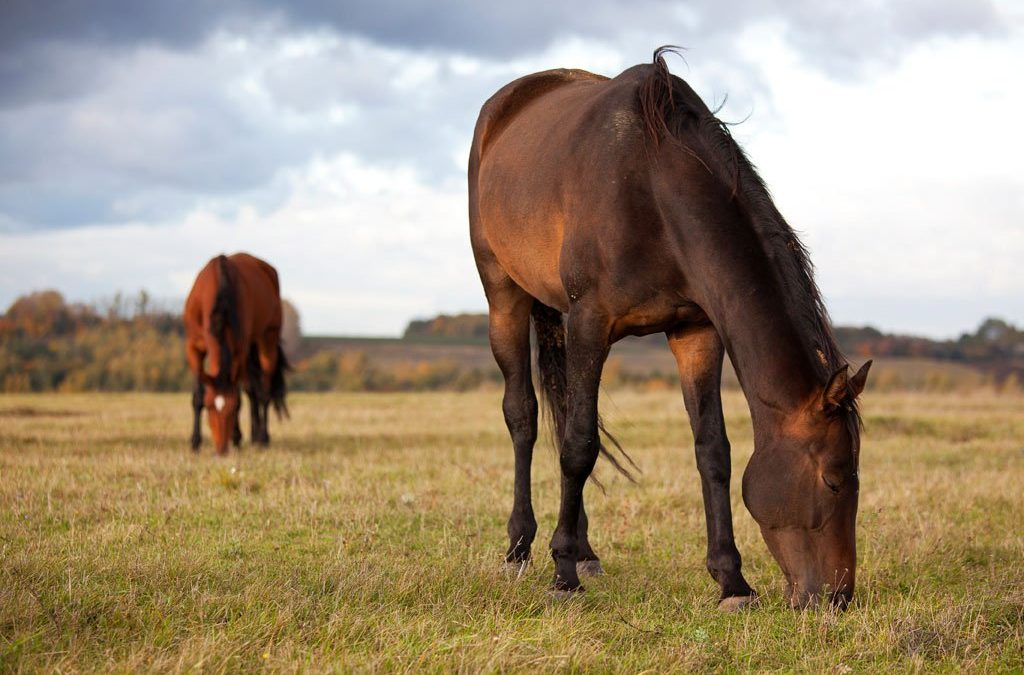Horse: (429, 44, 936, 626), (146, 236, 308, 482)
